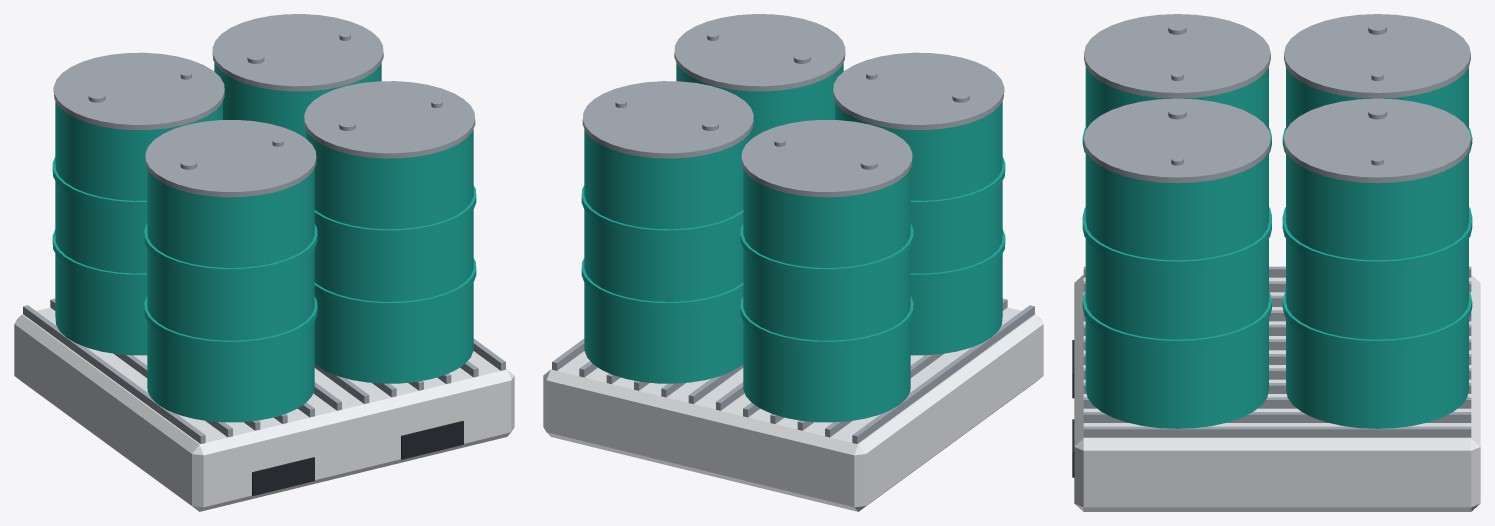
The model's file is drum-spill-pallet.glb.
3 views of the same model, side by side, from view 1: azimuth 30°, elevation 25°; view 2: azimuth 150°, elevation 25°; view 3: azimuth 270°, elevation 25° (orthographic). The views are drawn at different scales.
Visible parts, largest first — view 1: drum-spill-pallet; view 2: drum-spill-pallet; view 3: drum-spill-pallet.
Boxes of the visible parts, bbox=[...] form: drum-spill-pallet: bbox=[14, 14, 514, 511]; drum-spill-pallet: bbox=[543, 14, 1043, 511]; drum-spill-pallet: bbox=[1072, 14, 1480, 511].
Bounding box in the file's own units: 1.3 × 1.2 × 1.31.
